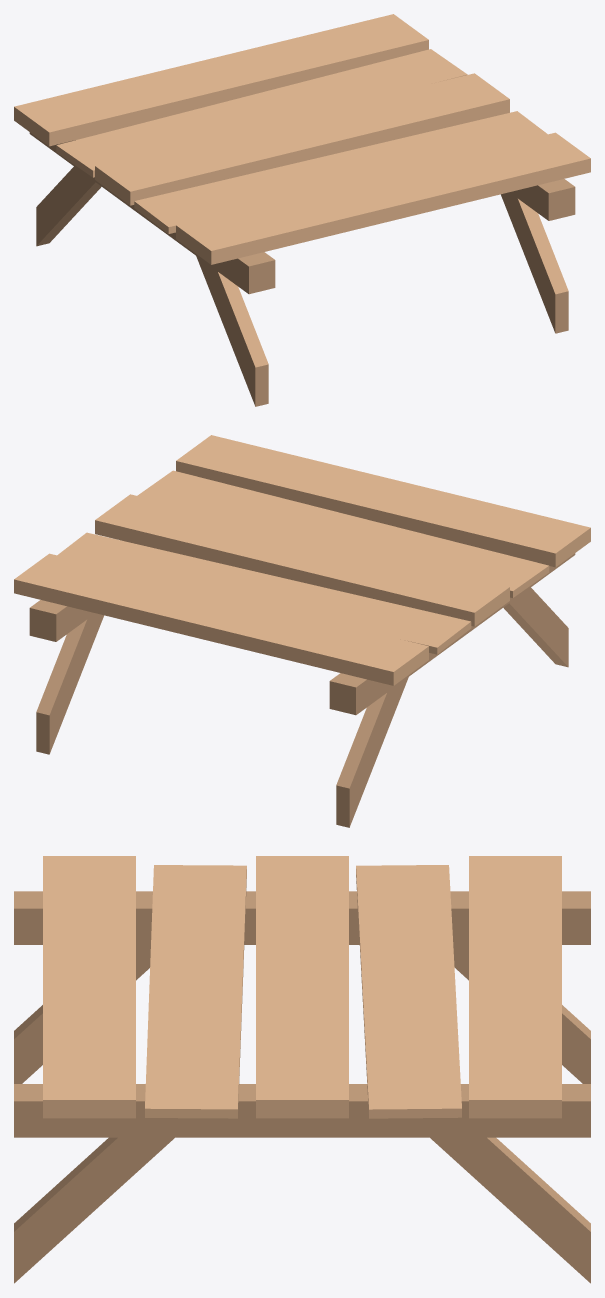
File: bridge.glb
The picture shows the model from 3 angles, top to bottom: view 1: azimuth 30°, elevation 25°; view 2: azimuth 150°, elevation 25°; view 3: azimuth 270°, elevation 25°; orthographic projection. The views are drawn at different scales.
Parts seen in each view (by area): view 1: bridge(Clone); view 2: bridge(Clone); view 3: bridge(Clone).
Boxes of the visible parts, <box> form: bridge(Clone): <box>14,14,590,406</box>; bridge(Clone): <box>14,435,590,827</box>; bridge(Clone): <box>14,856,590,1283</box>.
Size of the model in its own units: 1 by 0.3925 by 1.
